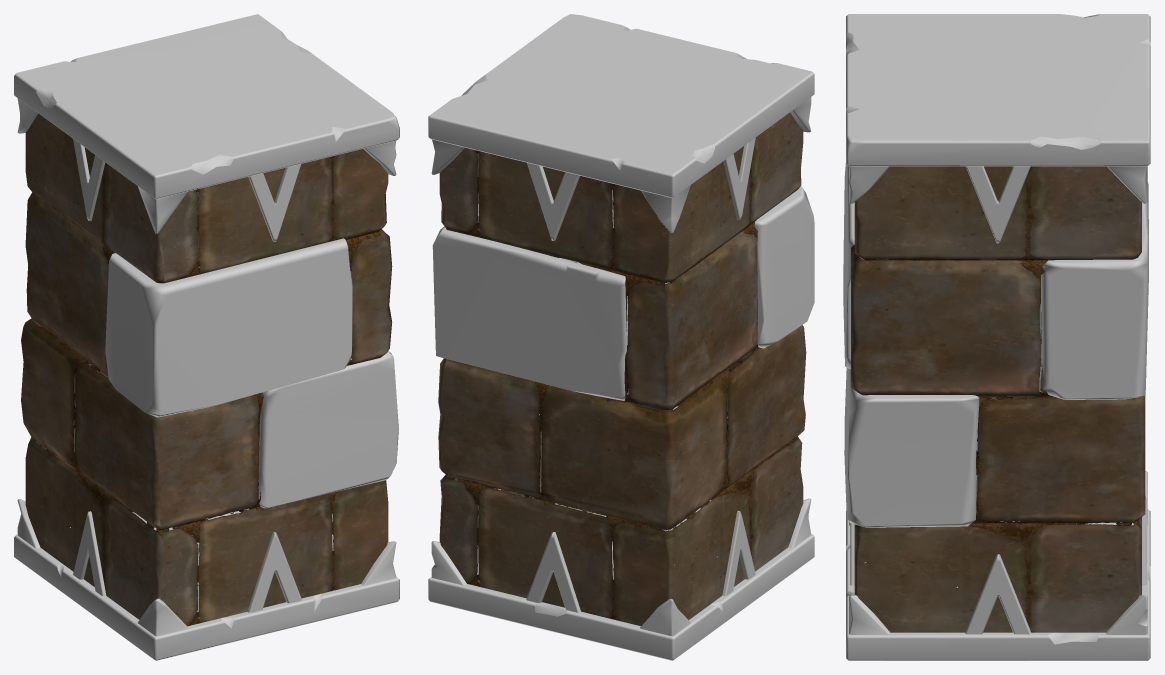
3 renders of one model, left to right at view 1: azimuth 30°, elevation 25°; view 2: azimuth 150°, elevation 25°; view 3: azimuth 270°, elevation 25°, orthographic. The views are drawn at different scales.
Parts seen in each view (by area): view 1: SM_AgilityPillar_2x4_LOD0; view 2: SM_AgilityPillar_2x4_LOD0; view 3: SM_AgilityPillar_2x4_LOD0.
Part boxes in pixels (x1,y1,x2,y2): SM_AgilityPillar_2x4_LOD0: (14, 14, 399, 660); SM_AgilityPillar_2x4_LOD0: (428, 14, 814, 660); SM_AgilityPillar_2x4_LOD0: (843, 14, 1150, 660).
Bounding box in the file's own units: 2.13 × 4 × 2.14.
